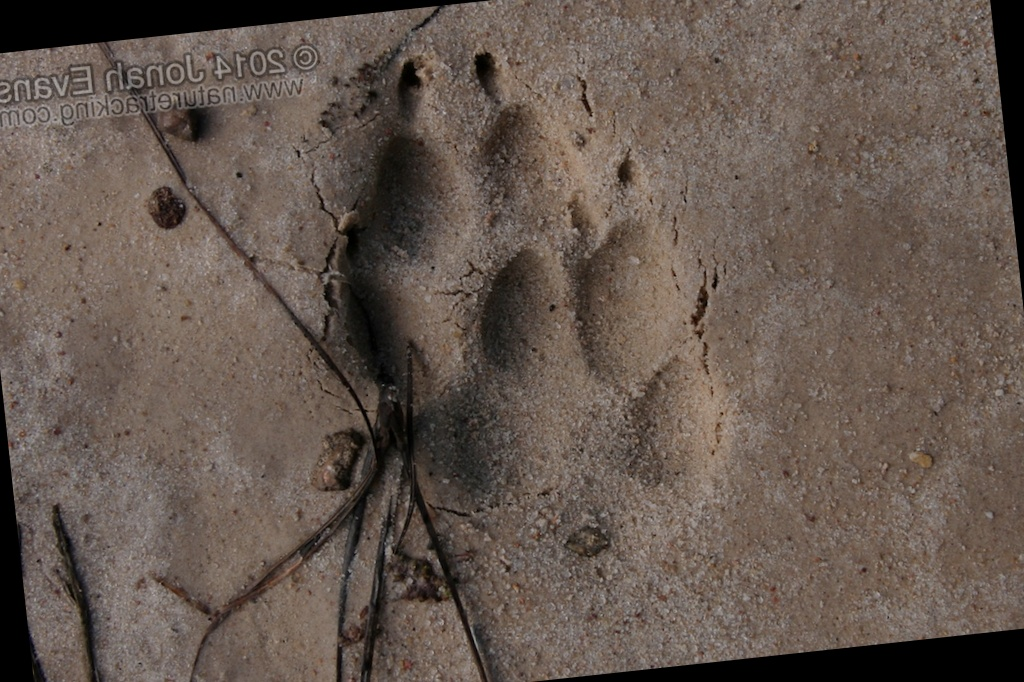coyote: (288, 27, 728, 569)
